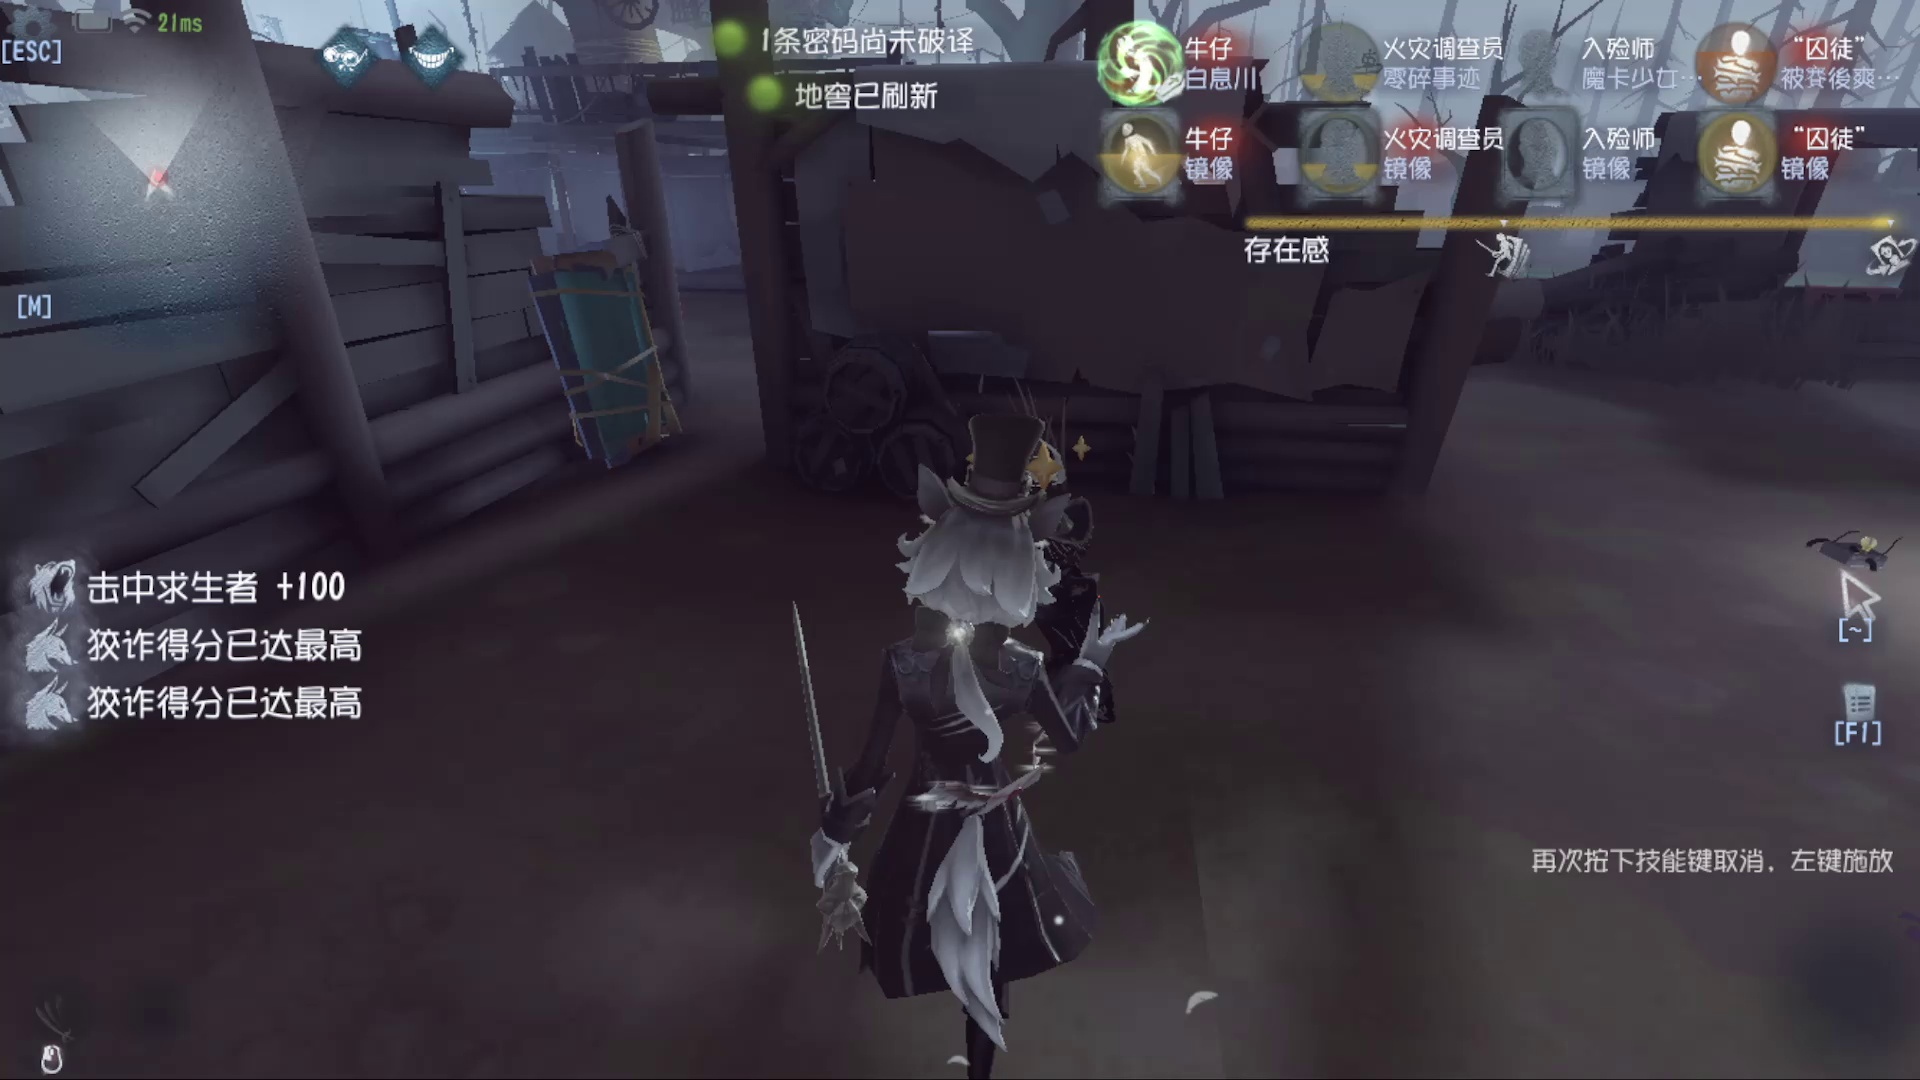木板: (527, 233, 688, 472)
